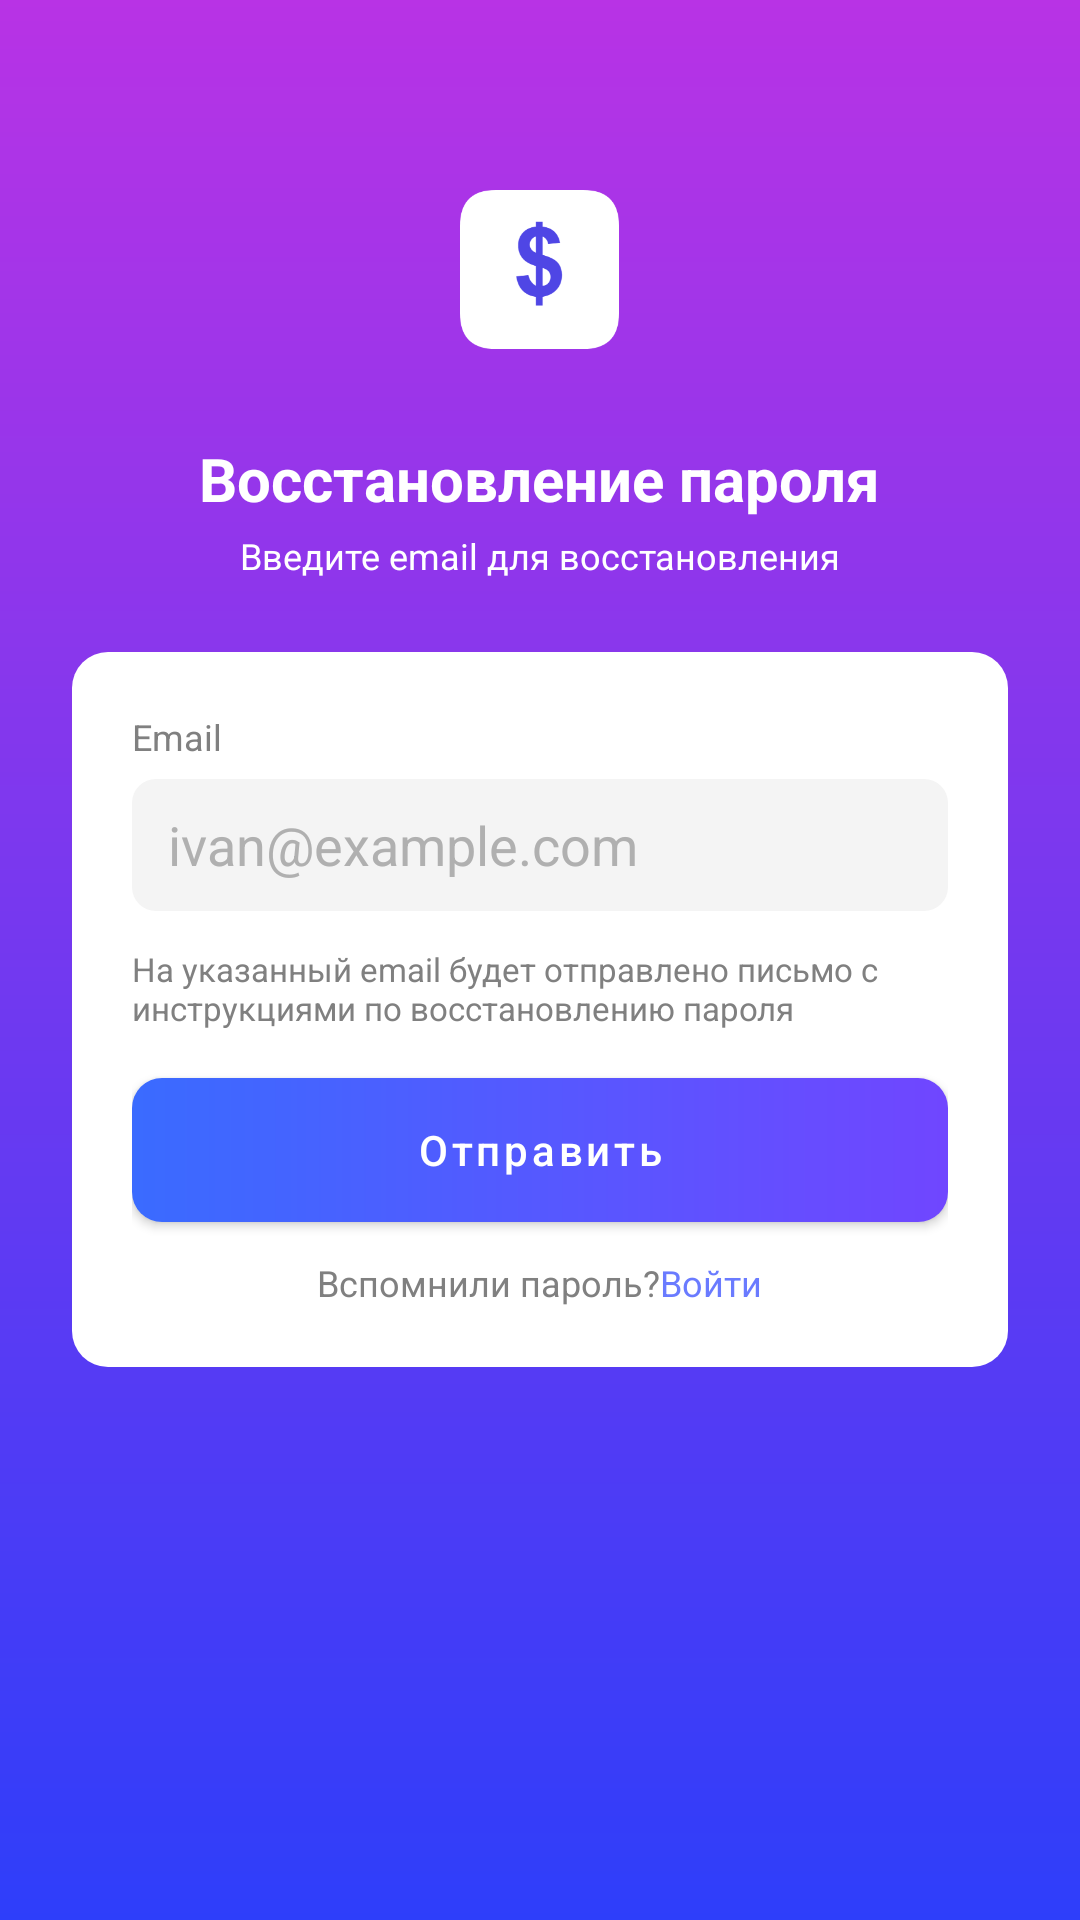

Icons on this 1080 × 1920 Android screen, each with the point to tap as point (x, y):
currency: point (539, 269)
